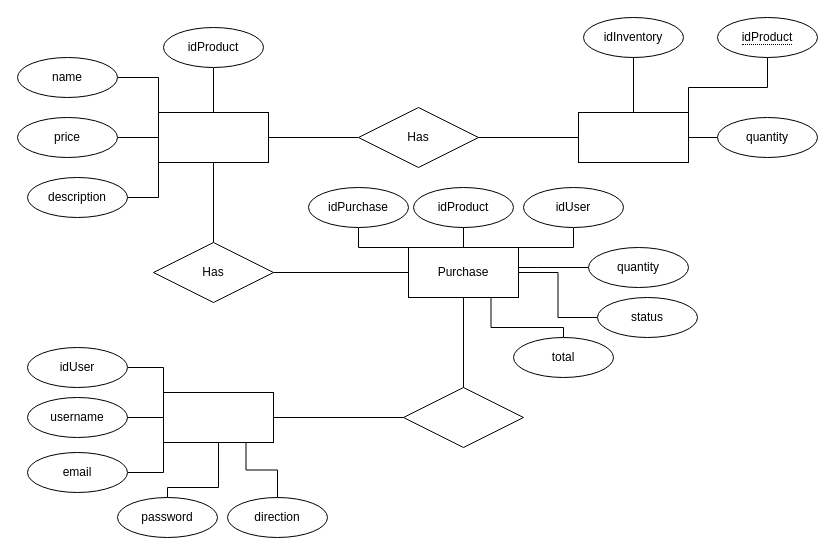
The diagram is 835 pixels wide and 555 high, and some of its shapes have lost their labels. Each missing label, with the centre of its shape:
Does: (463,417)
Inventory: (633,137)
Product: (213,137)
User: (218,417)
